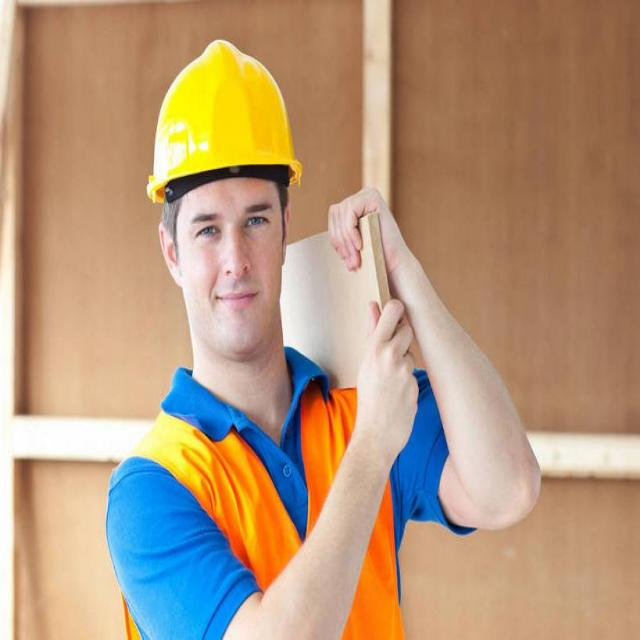Reflective-Jacket: (128, 356, 398, 639)
Safety-Helmet: (143, 35, 302, 204)
